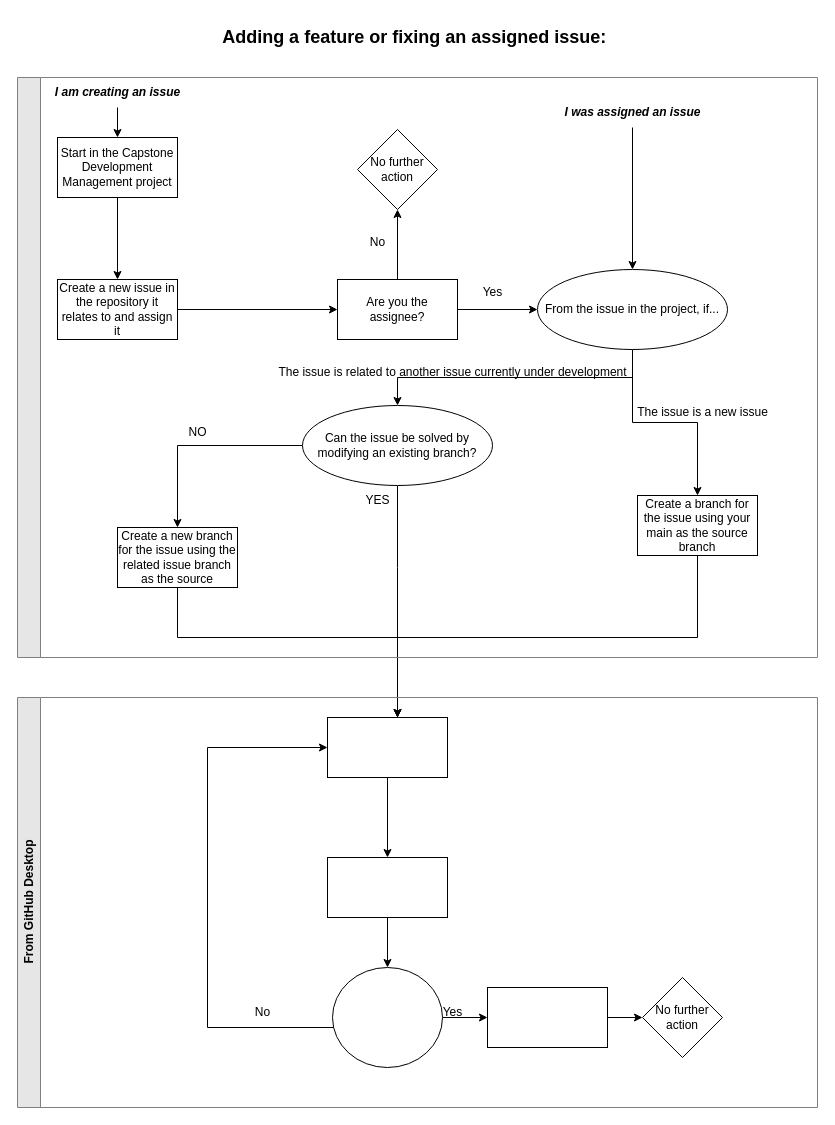
Image size: 835x1125. Some labels were removed from this diagram. The shapes that lost their labels are listed below. From the top down, each one's centre as x and y in pixels, then its label:
At (x=417, y=367): "In the GitHub Project".
At (x=387, y=747): "Work on the issue branch".
At (x=387, y=887): "Merge the fix with the source branch".
At (x=387, y=1017): "Is the source branch your personal branch?".
At (x=547, y=1017): "Create a pull request to the main branch".
